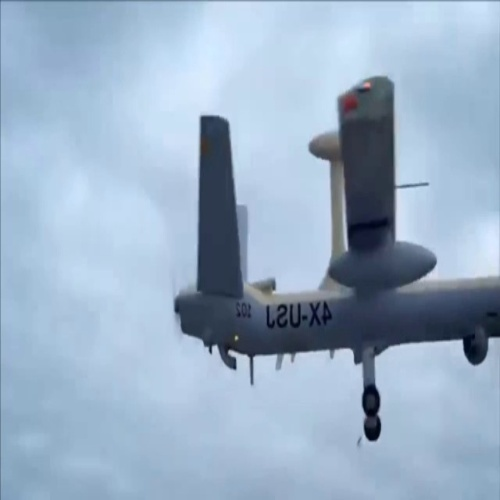uav796: (164, 74, 500, 449)
